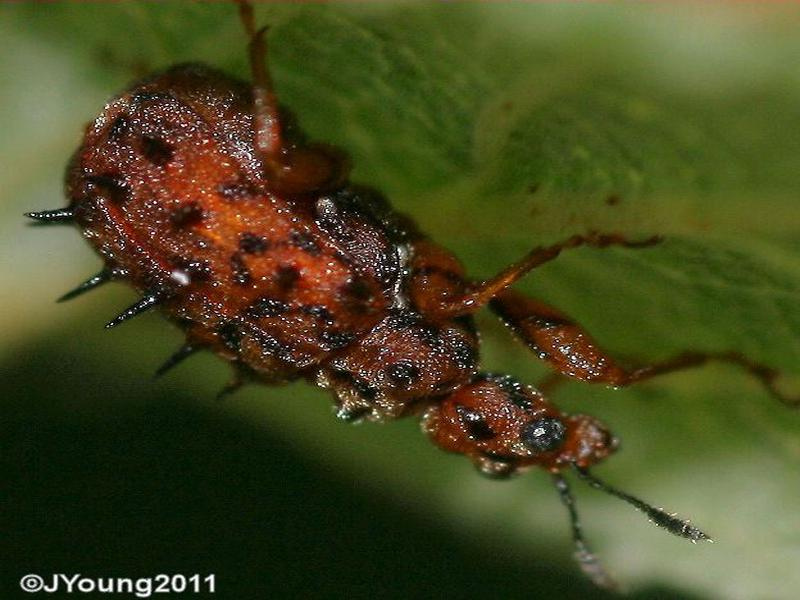Spiny_beetle: (26, 66, 644, 507)
